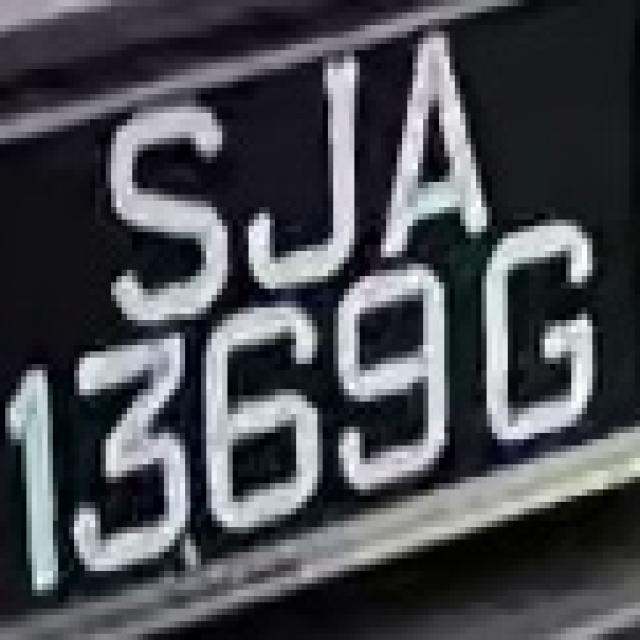1: (0, 339, 69, 615)
3: (69, 320, 201, 577)
6: (175, 314, 333, 533)
9: (339, 257, 460, 477)
A: (360, 19, 508, 251)
G: (471, 207, 614, 452)
J: (238, 38, 365, 276)
S: (85, 88, 238, 339)
